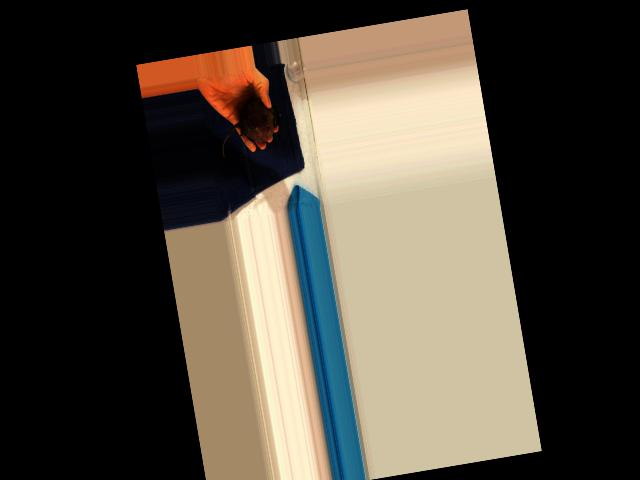beet: (214, 94, 286, 159)
